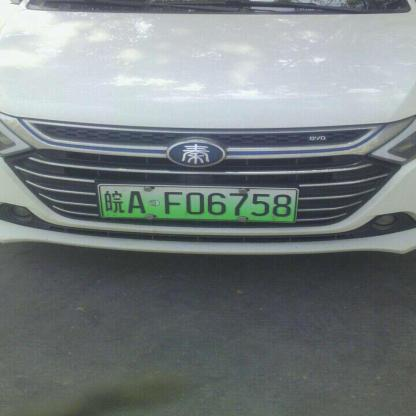lp: (98, 185, 297, 222)
